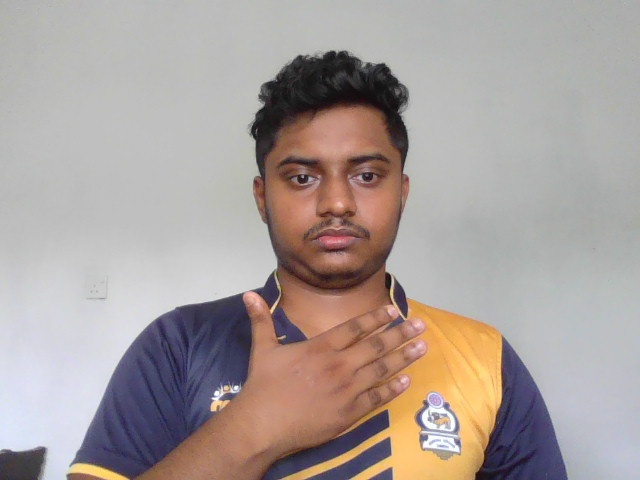Please: (239, 290, 429, 455)
